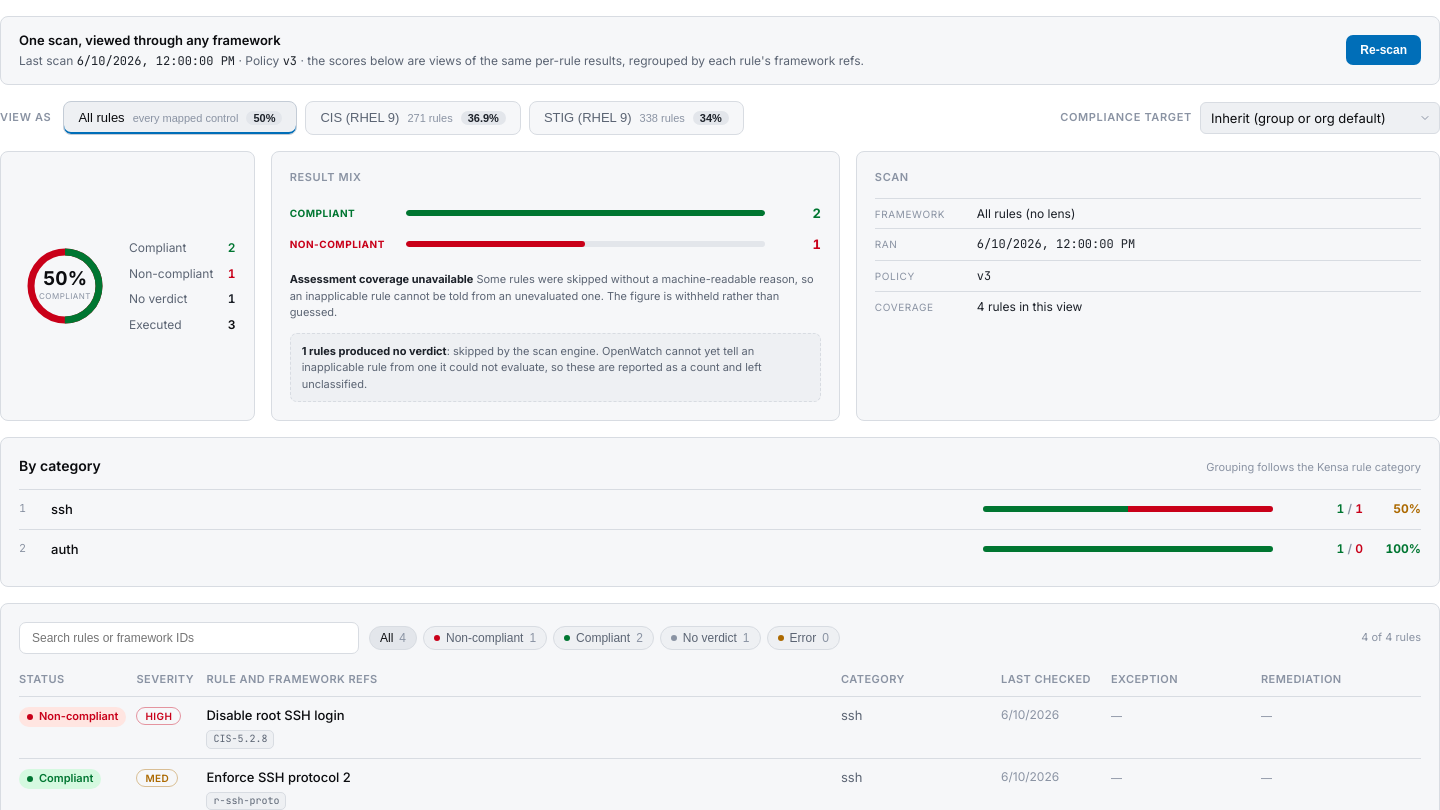
frontend-host-compliance-tab — behavioral › frontend-host-compliance-tab/AC-04 — status filter is client-side only: no refetch on filter click
Check: the text "Disable root SSH login" is shown, box [206,707,345,723]
Click the button "Non-compliant 1" at (485, 638), box [423,626,547,650]
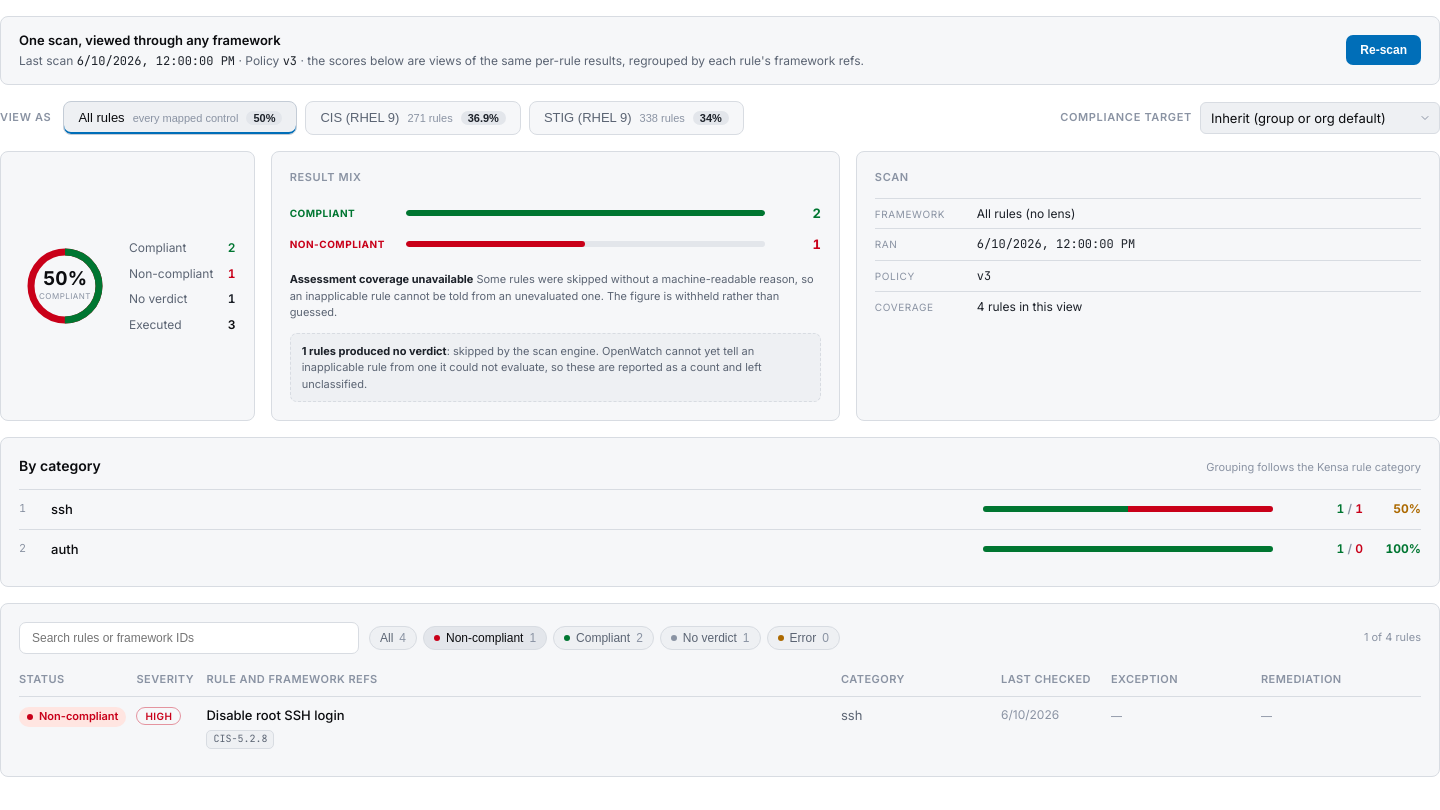
Check: the text "Disable root SSH login" is shown, box [206,707,345,723]
Check: the text "Enforce SSH protocol 2" is gone
Click the button "All 4" at (393, 638), box [369,626,417,650]
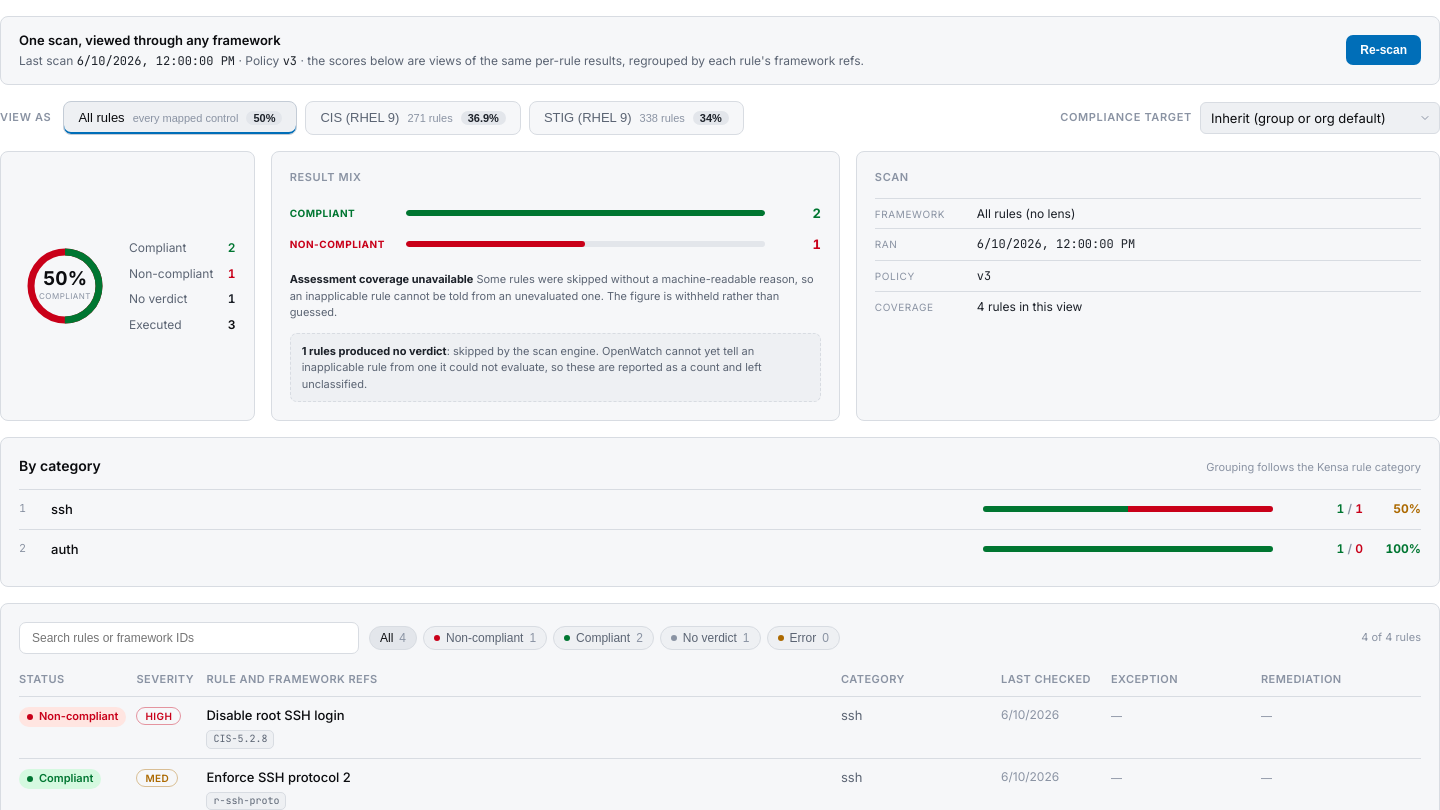
Check: the text "Enforce SSH protocol 2" is shown, box [206,769,351,785]
Type "AppArmor" into the search field labelled "Search rules or framework IDs" at (189, 638), box [19,622,359,654]
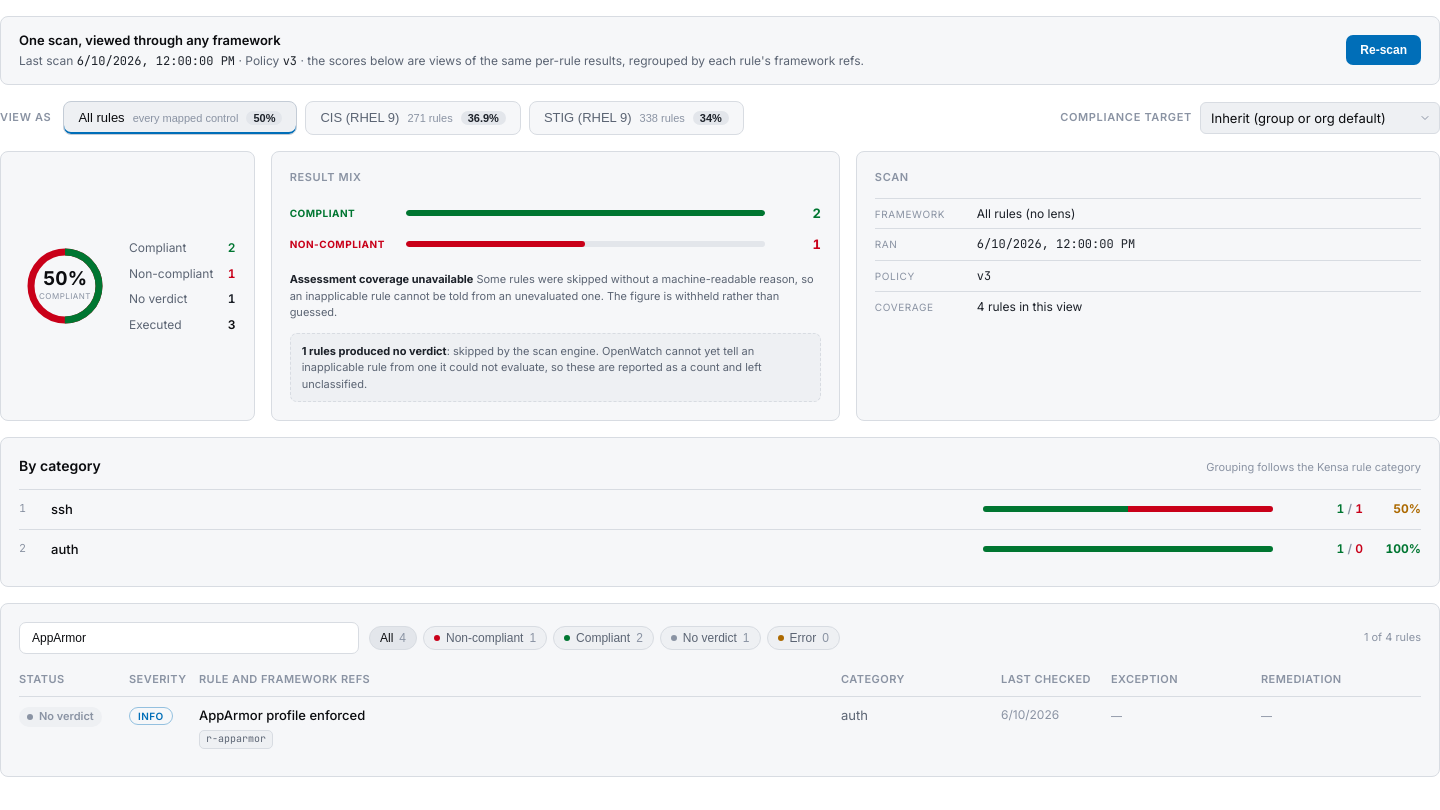
Check: the text "AppArmor profile enforced" is shown, box [199,707,365,723]
Check: the text "Disable root SSH login" is gone
Clear the search field named "Search rules or framework IDs" at (189, 638), box [19,622,359,654]
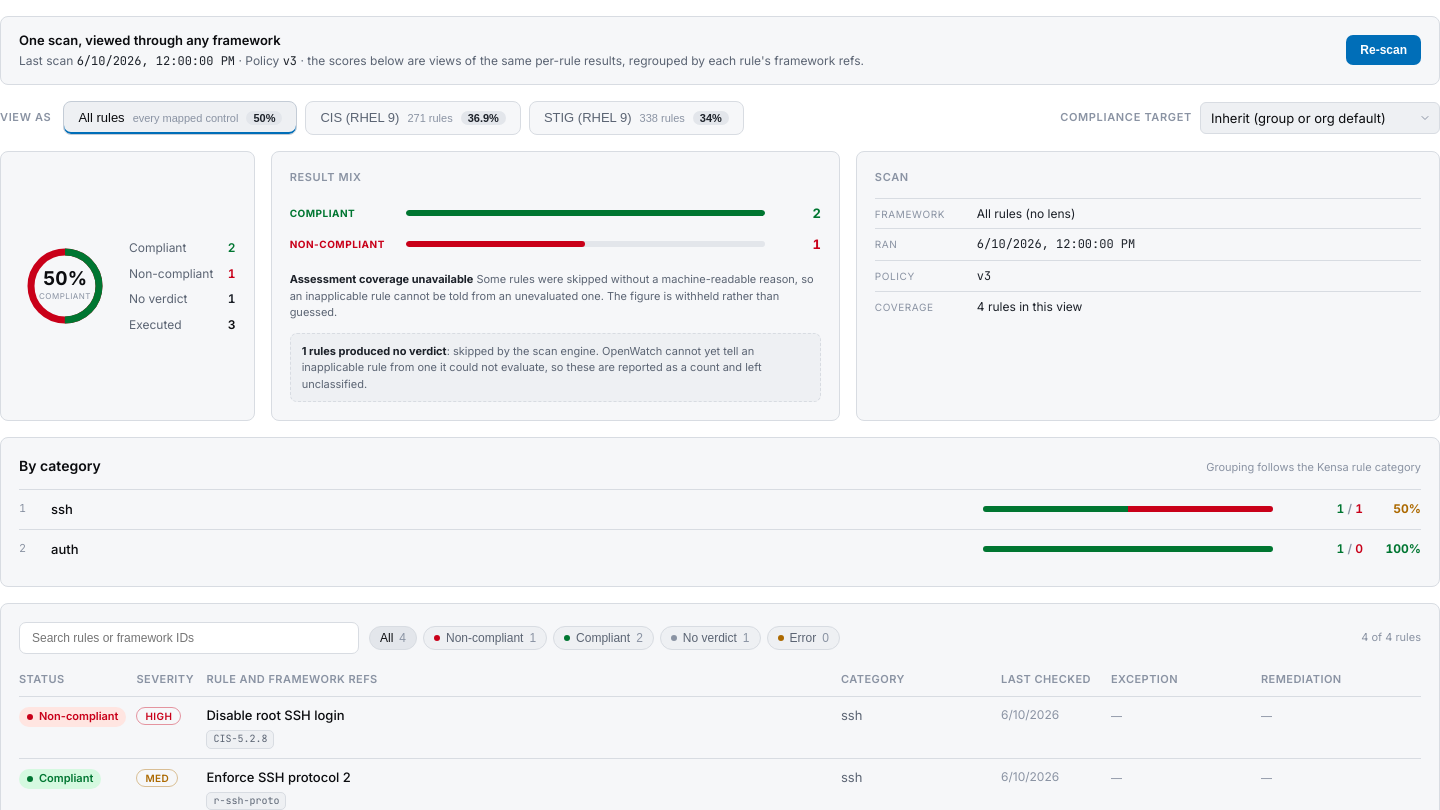
Check: the text "Disable root SSH login" is shown, box [206,707,345,723]
